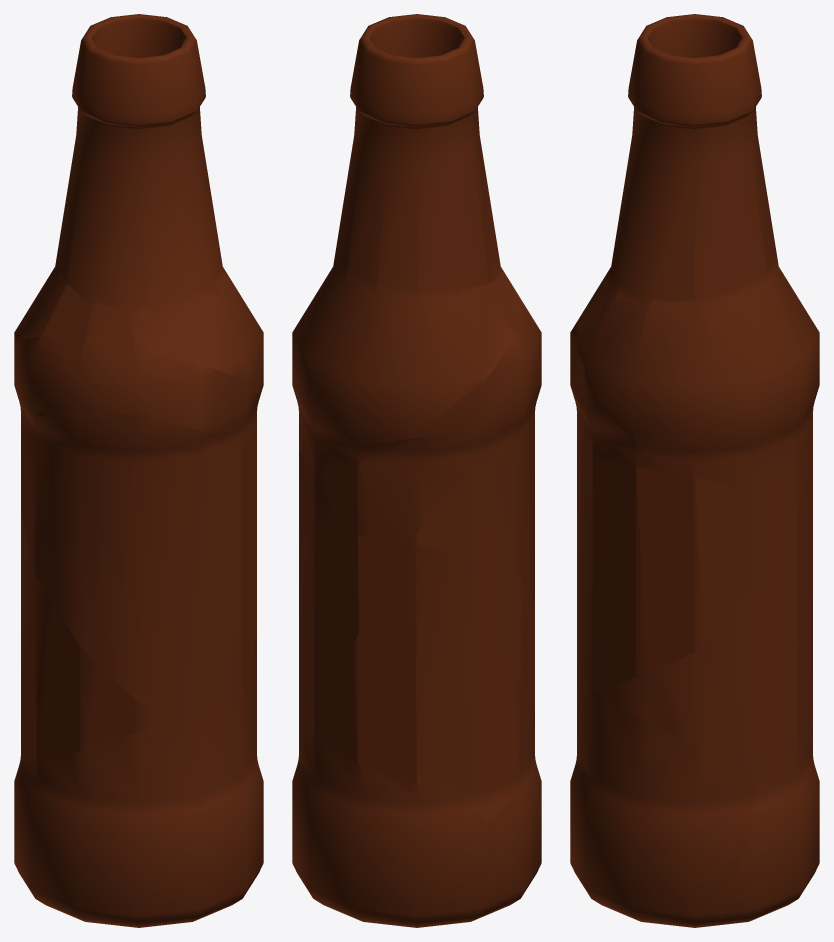
The model's file is Bottle CD.fbx.
3 views of the same model, side by side, from view 1: azimuth 30°, elevation 25°; view 2: azimuth 150°, elevation 25°; view 3: azimuth 270°, elevation 25° (orthographic).
Parts seen in each view (by area): view 1: GlassBottle; view 2: GlassBottle; view 3: GlassBottle.
Part boxes in pixels (x1,y1,x2,y2): GlassBottle: (14, 14, 263, 927); GlassBottle: (292, 14, 541, 927); GlassBottle: (570, 14, 819, 927).
Size of the model in its own units: 6.07 by 22.7 by 6.07.
